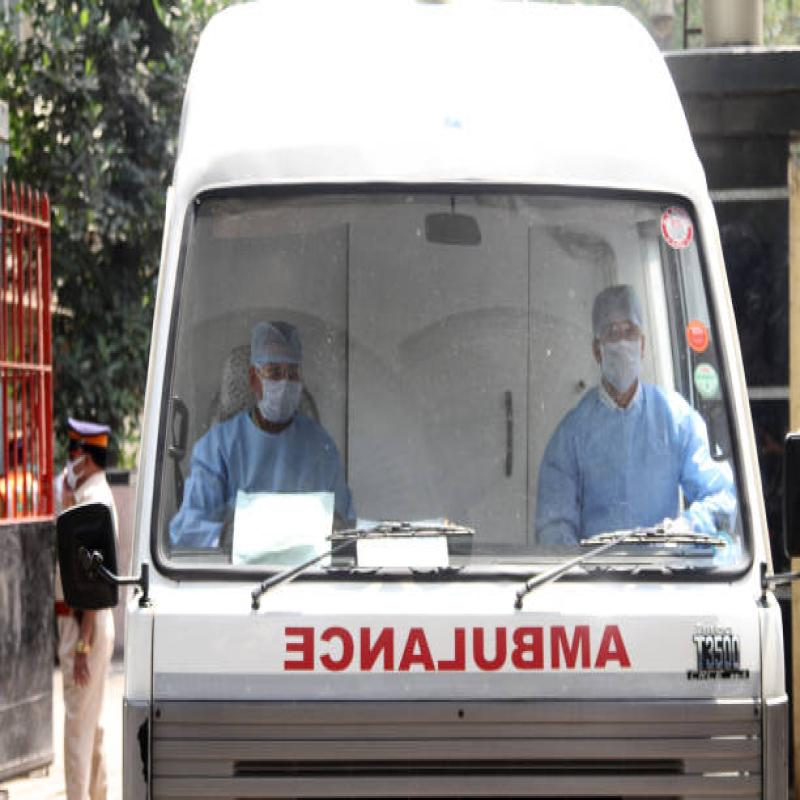ambulance: (69, 9, 800, 799)
